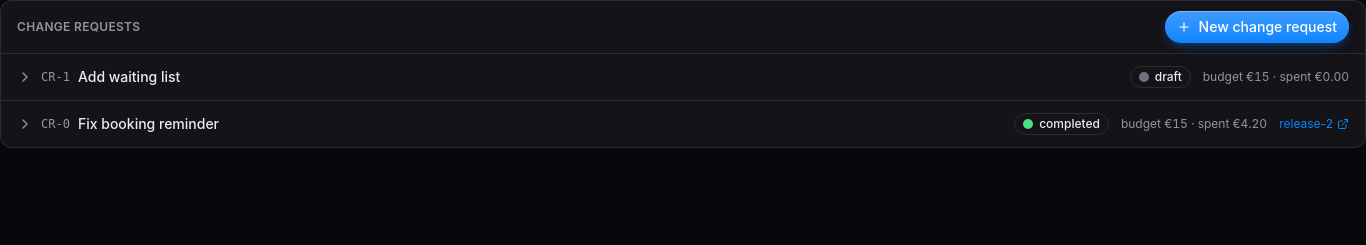
ChangesTab › shows Queue on a running project and no queue/cancel for members
Later steps or results of the test are not shown.
Click the button "CR-1 Add waiting list": point(129, 76) [17, 67, 1118, 87]
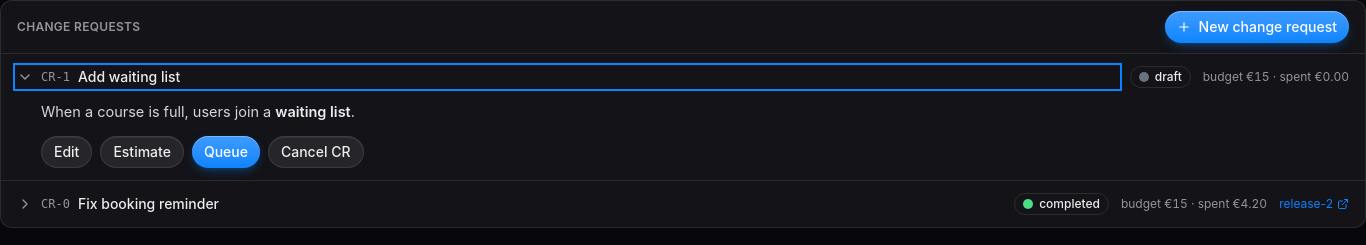
Now the button "Queue" is shown, box [192, 136, 260, 168]
